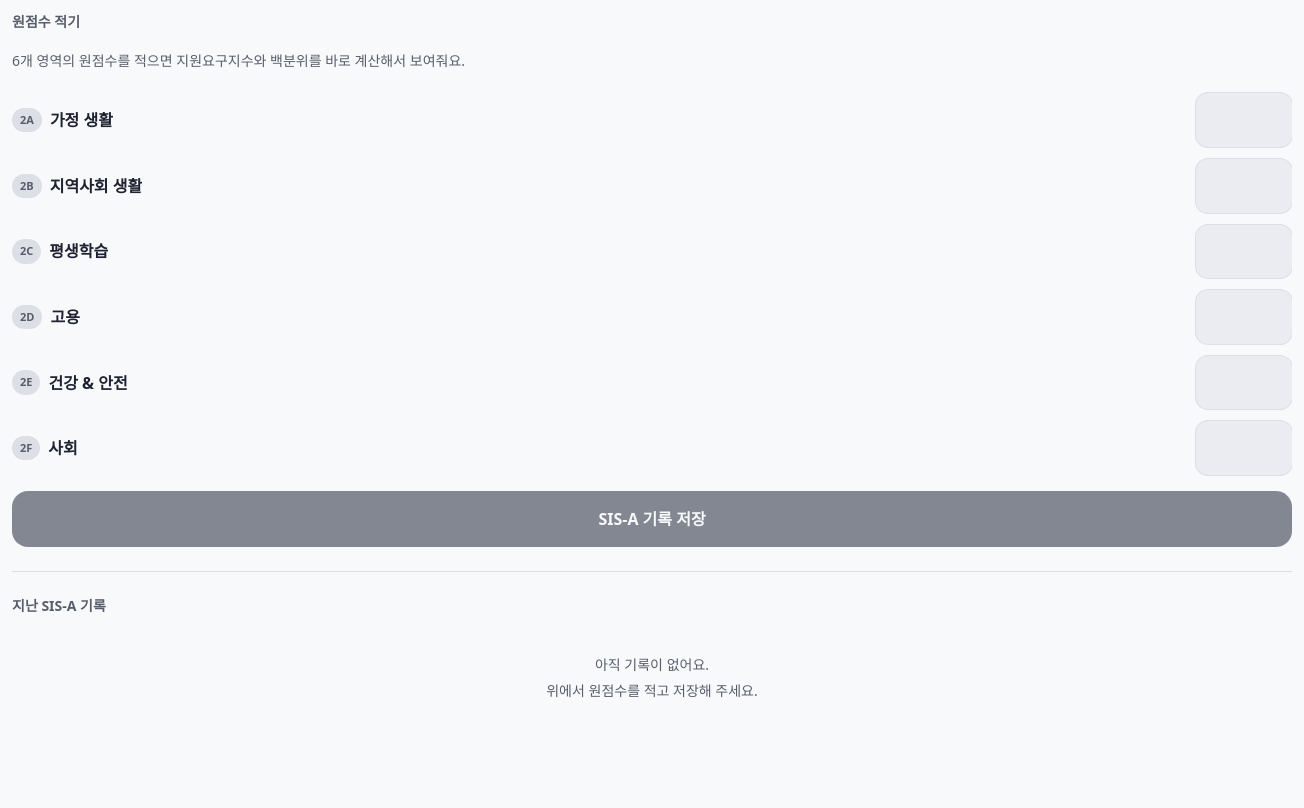
SisAssessmentClient — SIS-A 척도 기록(실무자) › 원점수를 입력하면 지원요구지수를 실시간 계산해 보여준다(합60→지수100)
The width and height of the screenshot is (1304, 808).
Type "50" into the number field labelled "가정 생활". click: point(1244, 120)
box: [1196,94,1292,147]
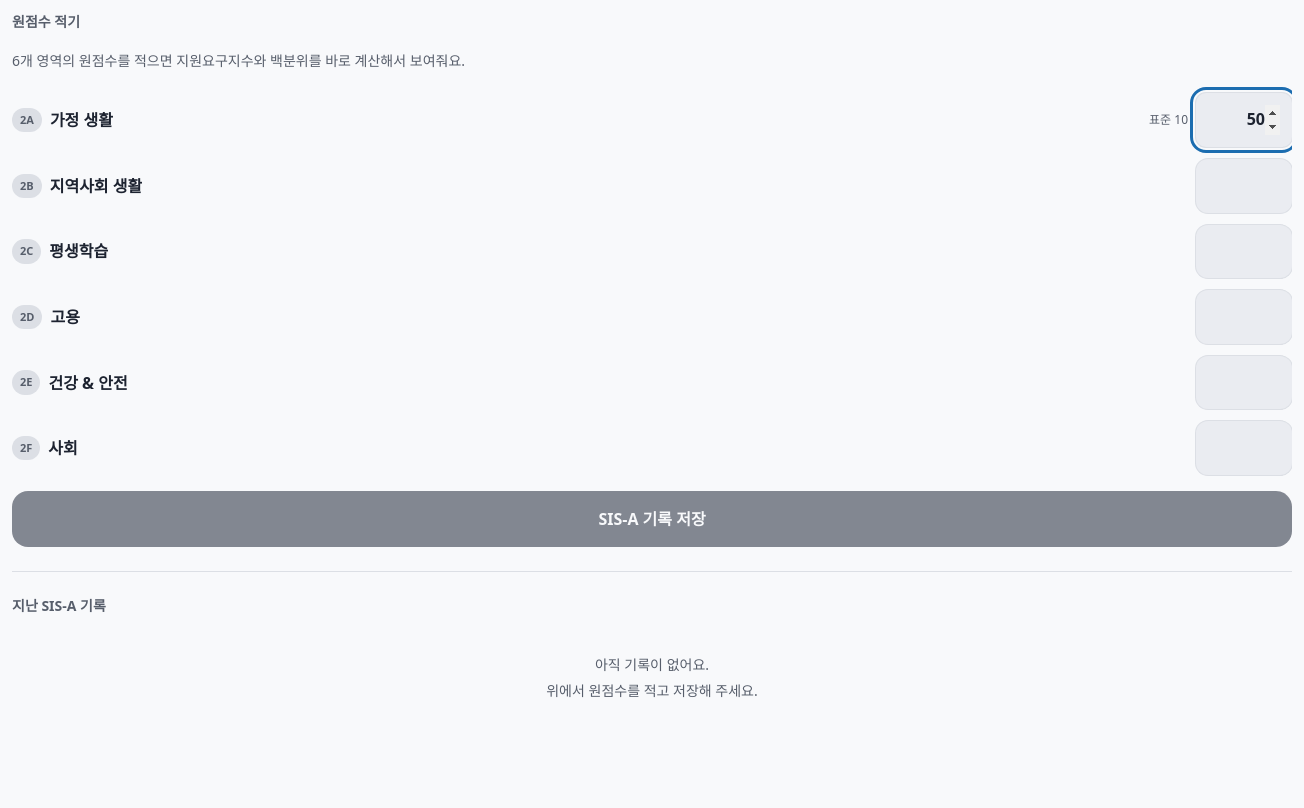
Type "56" into the number field labelled "지역사회 생활". click: point(1244, 186)
box: [1196,159,1292,213]
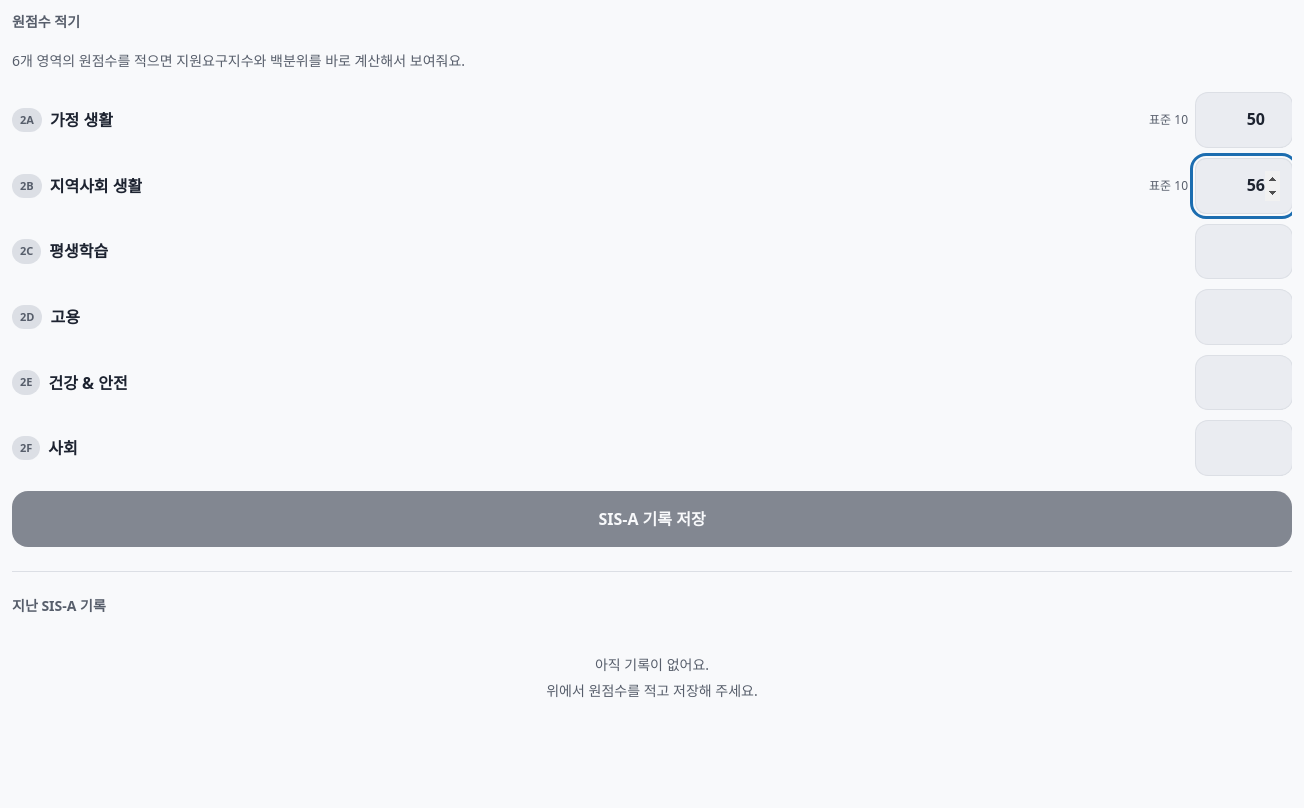
Type "55" into the number field labelled "평생학습". click: point(1244, 252)
box: [1196,225,1292,278]
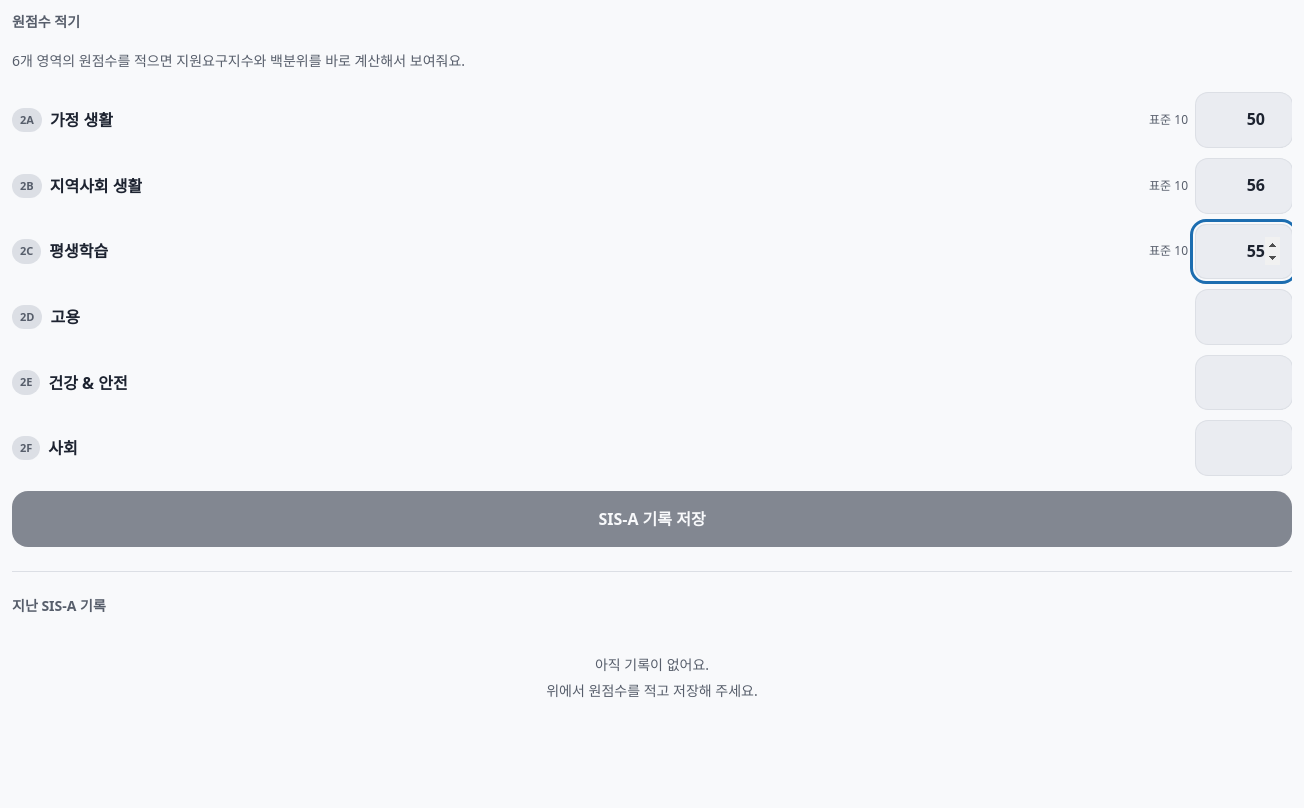
Type "52" into the number field labelled "고용". click: point(1244, 317)
box: [1196,290,1292,344]
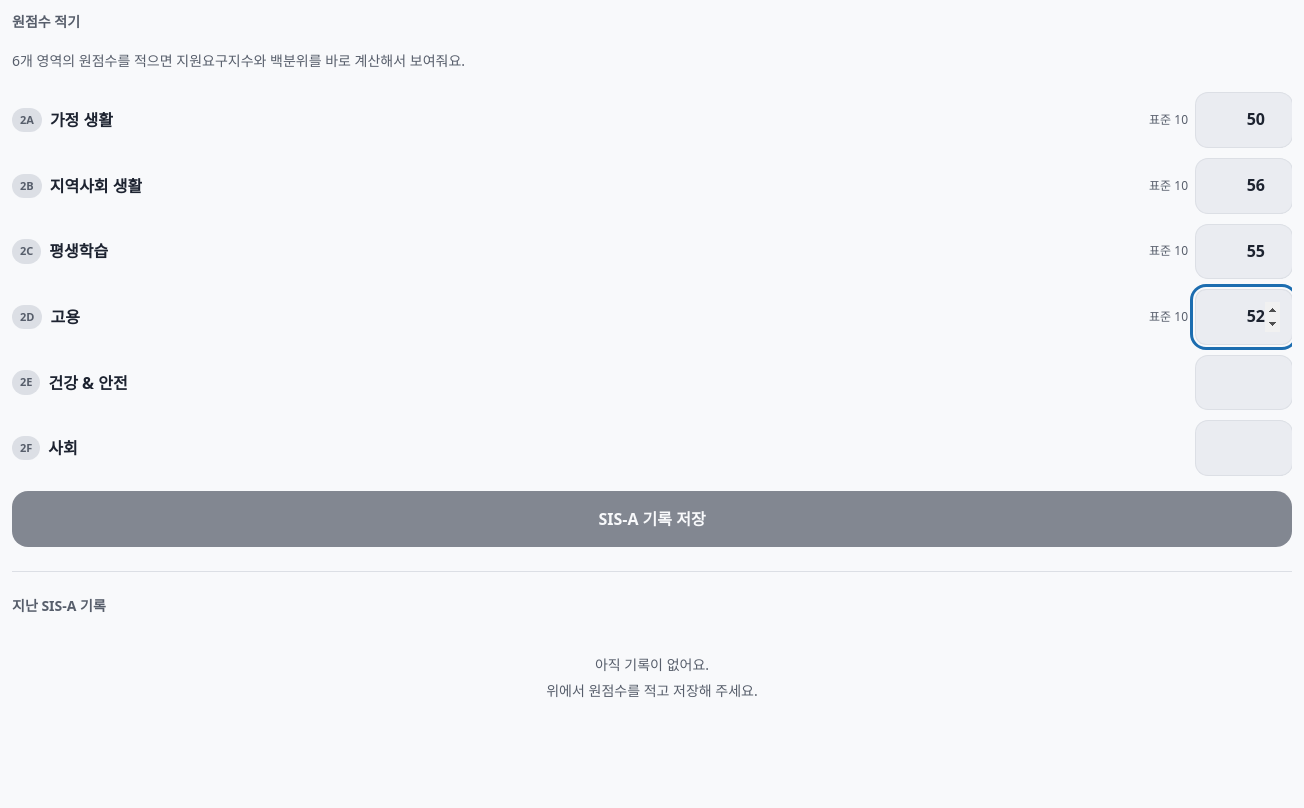
Type "49" into the number field labelled "건강 & 안전". click: point(1244, 383)
box: [1196,356,1292,410]
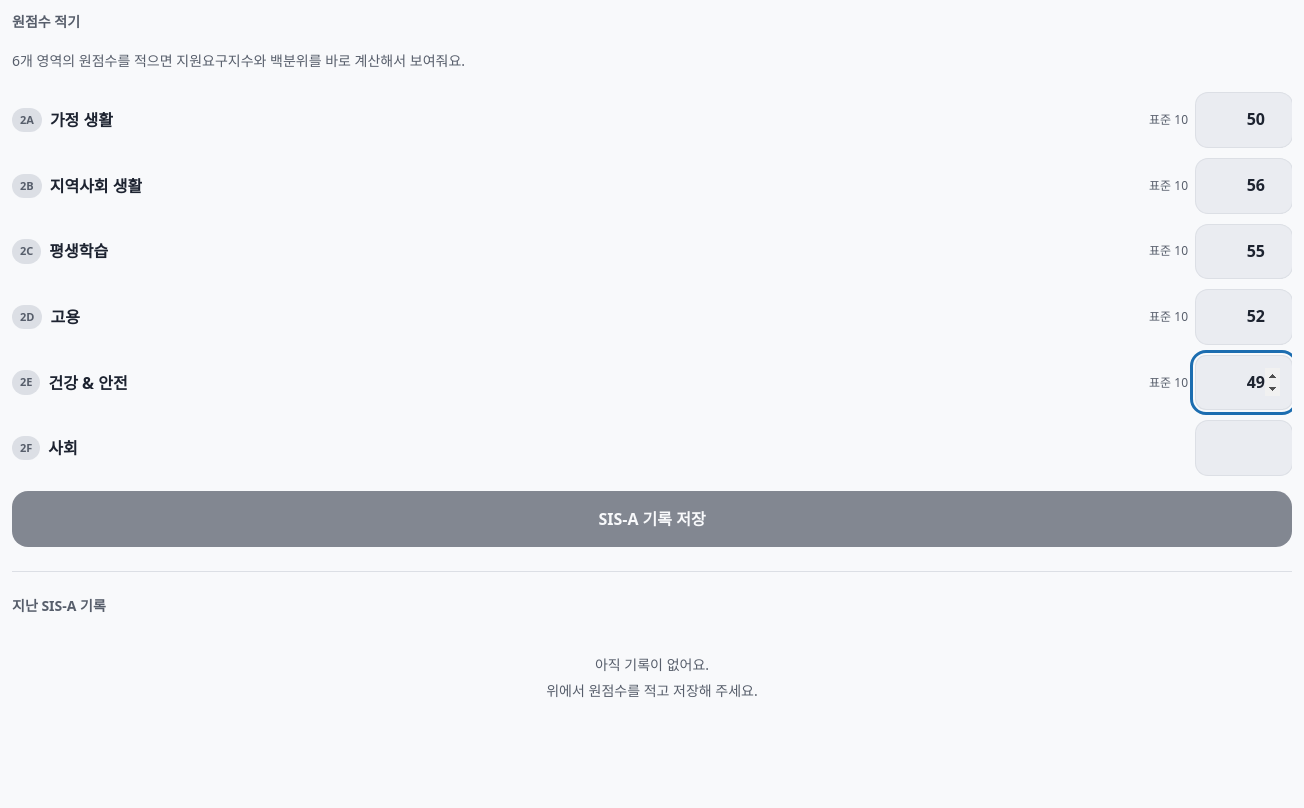
Type "48" into the number field labelled "사회". click: point(1244, 448)
box: [1196,422,1292,475]
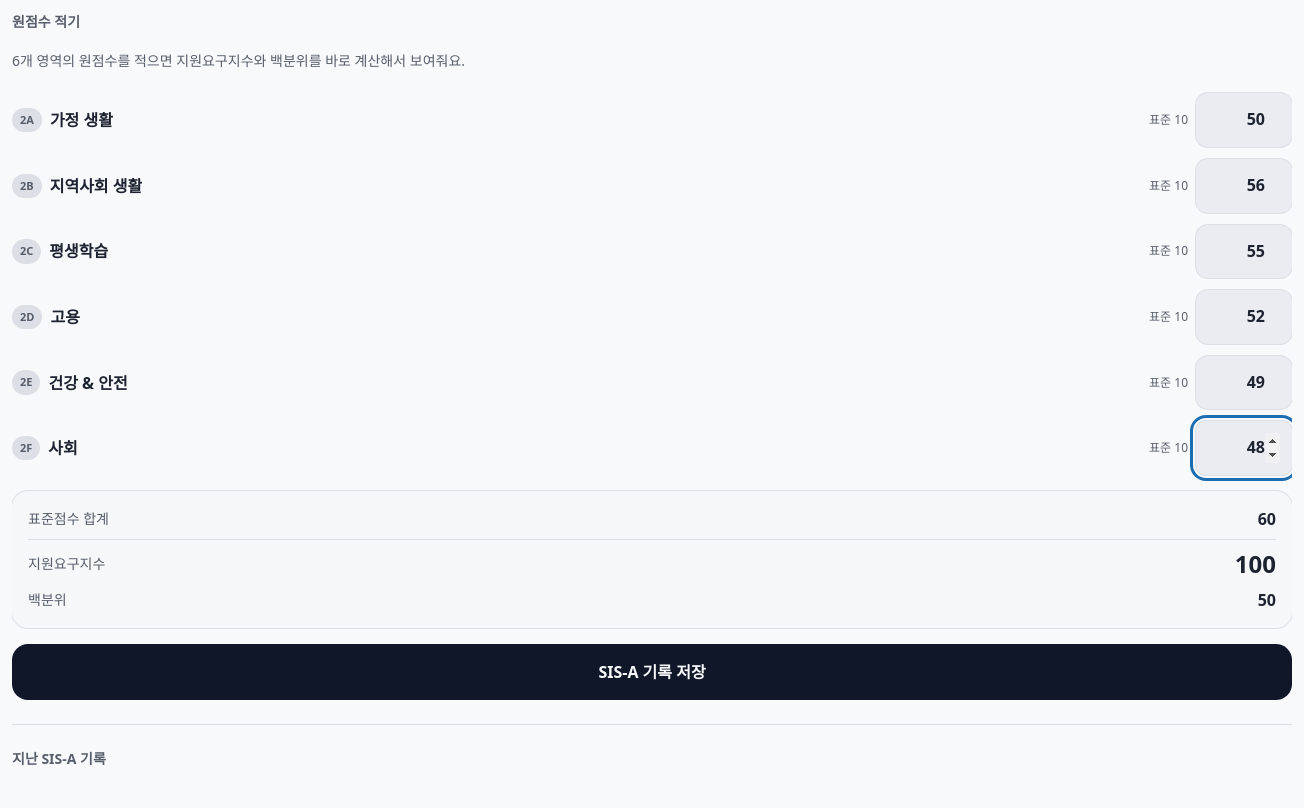
Expected: the text "100" is shown, [1235,548,1276,580]
